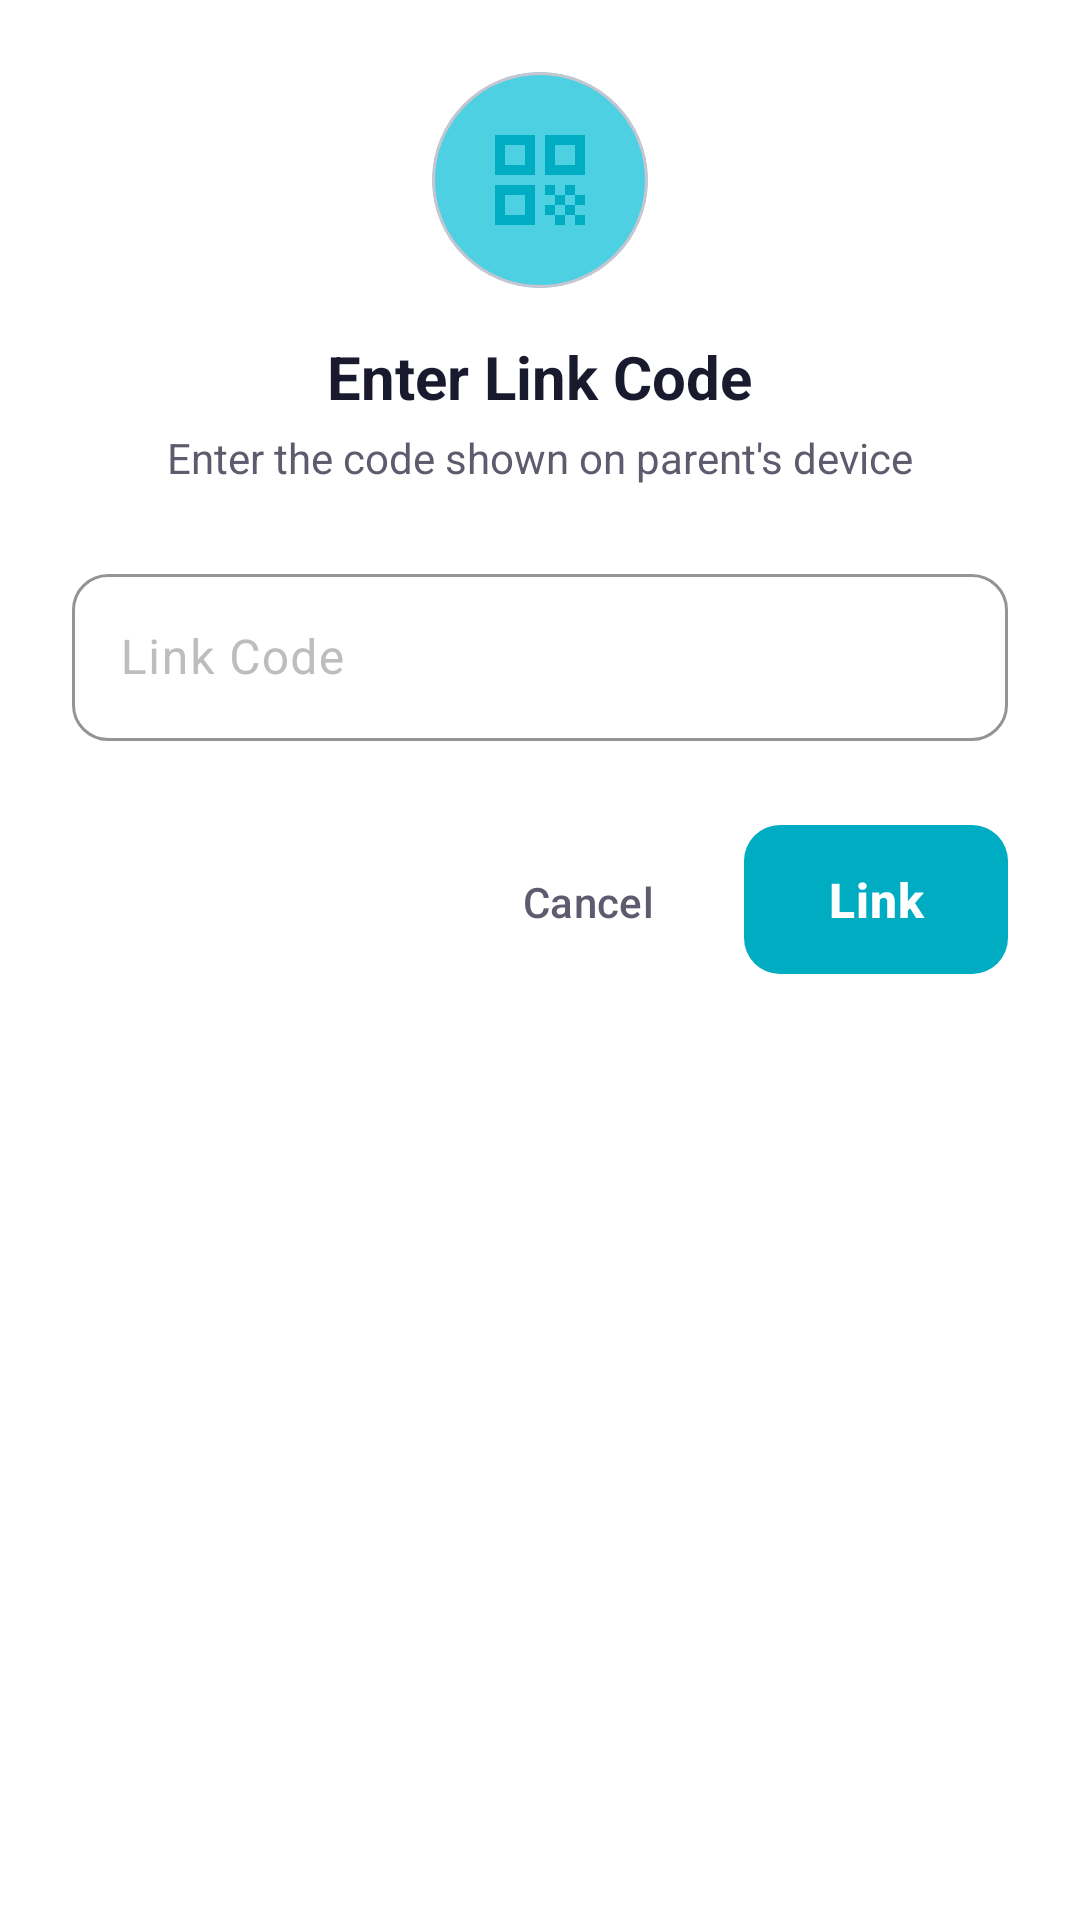

Icon bounding boxes for this 1080*1920 phone screenshot, format box(x1, y1, x2, y2):
qr code: box(495, 135, 585, 225)
